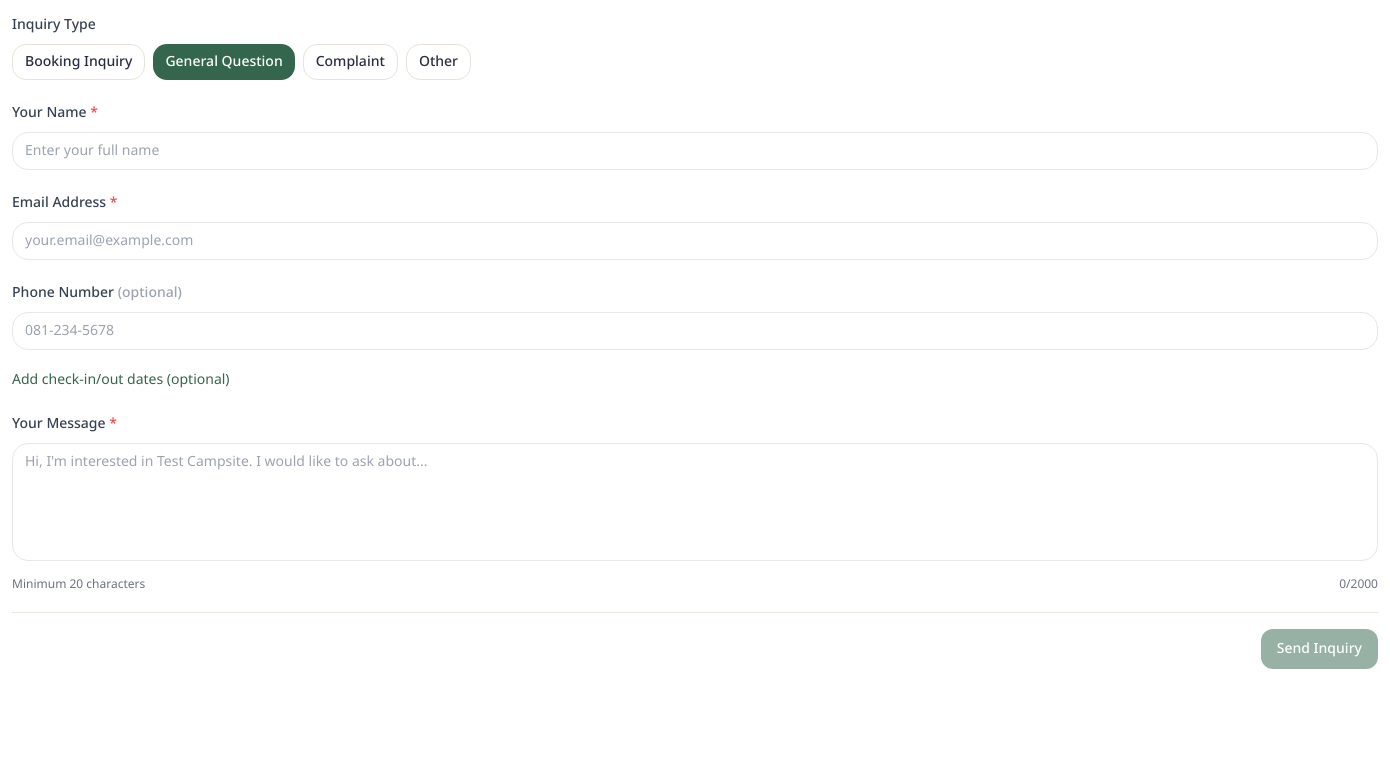
it: InquiryForm › Form Validation › shows error for empty name field
In the text box labelled "Your Message *": (695, 502) [12, 443, 1378, 561], type "This is a valid test message with at least 20 characters."
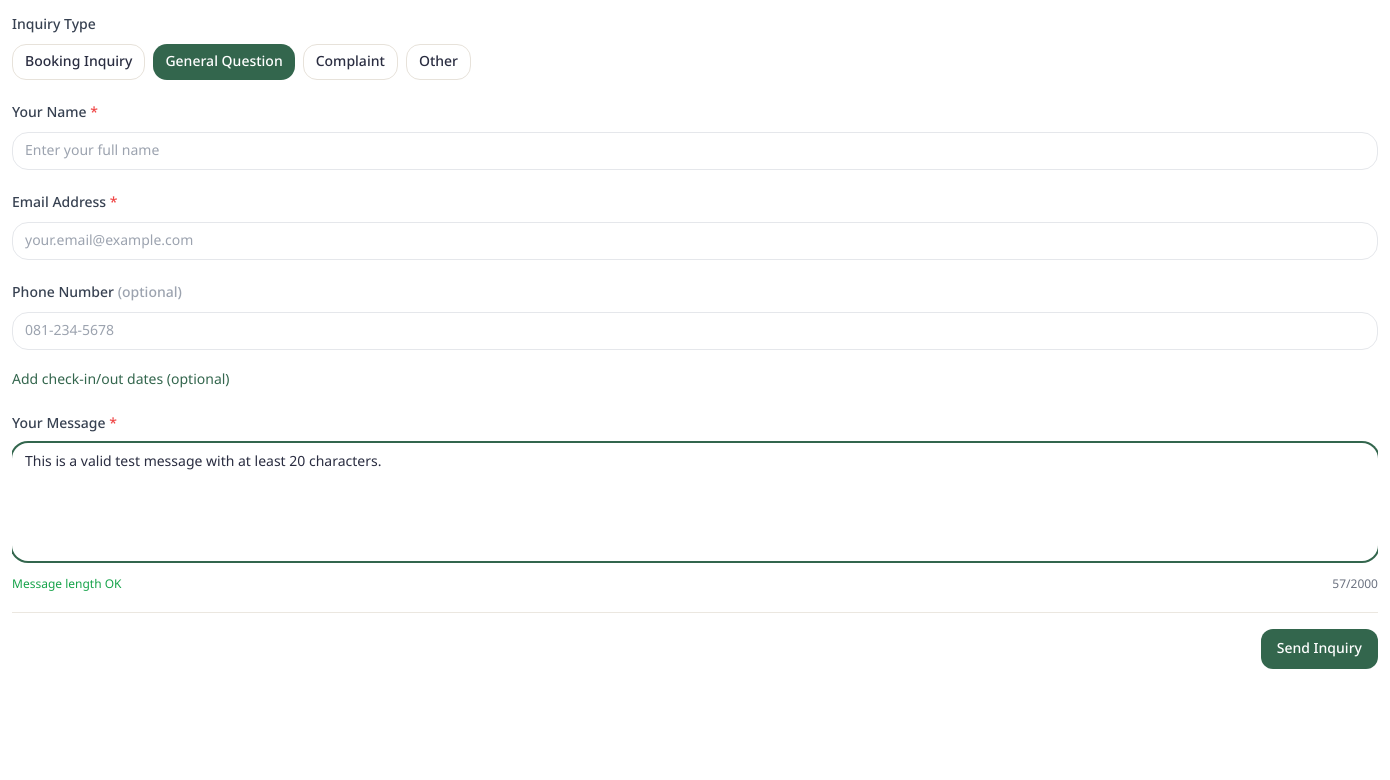
Click the button "Send Inquiry": (1319, 649) [1261, 629, 1378, 669]
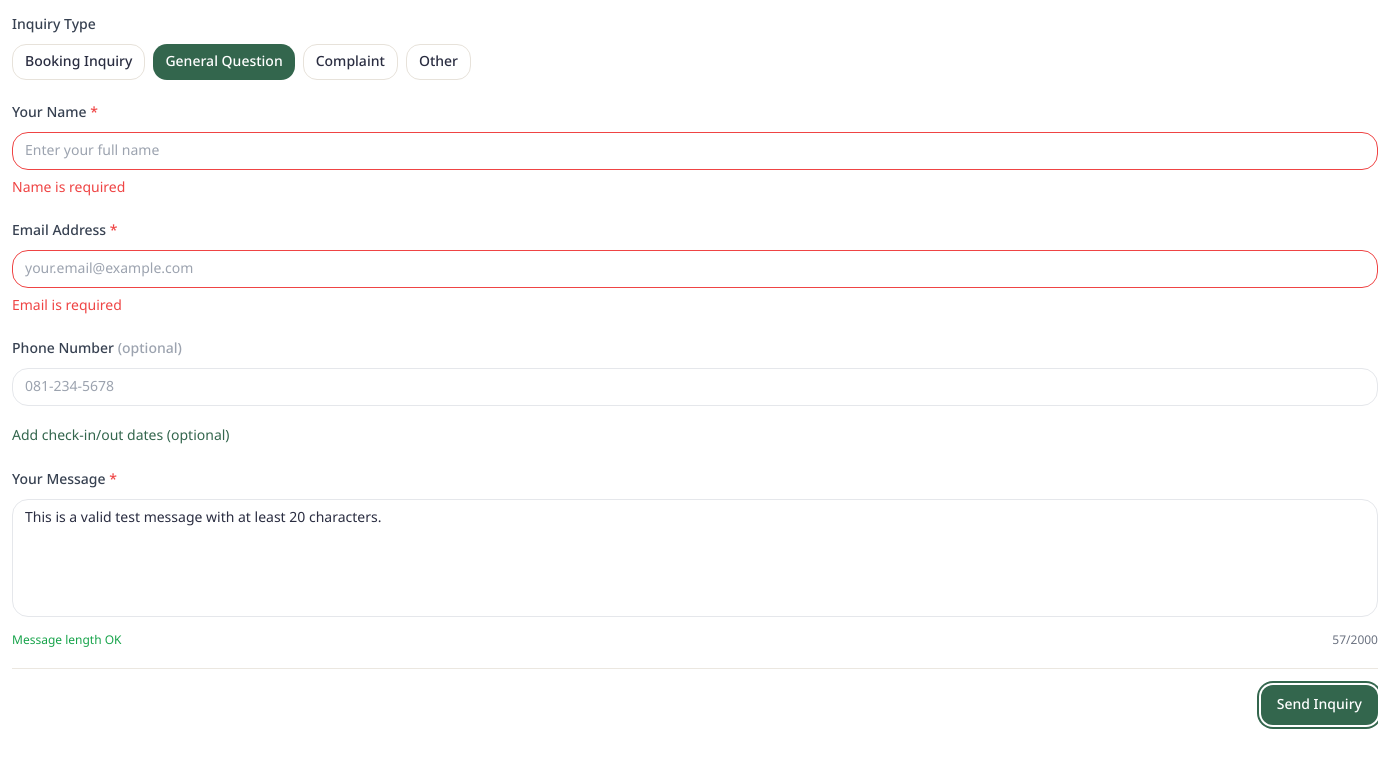
expect the text "Name is required" is shown: met, box [12, 177, 125, 198]
